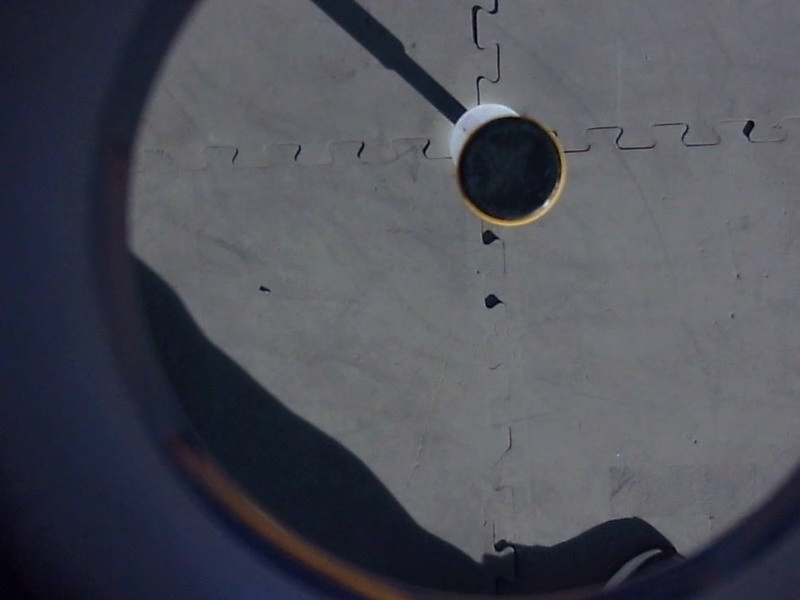tip: (448, 108, 573, 236)
